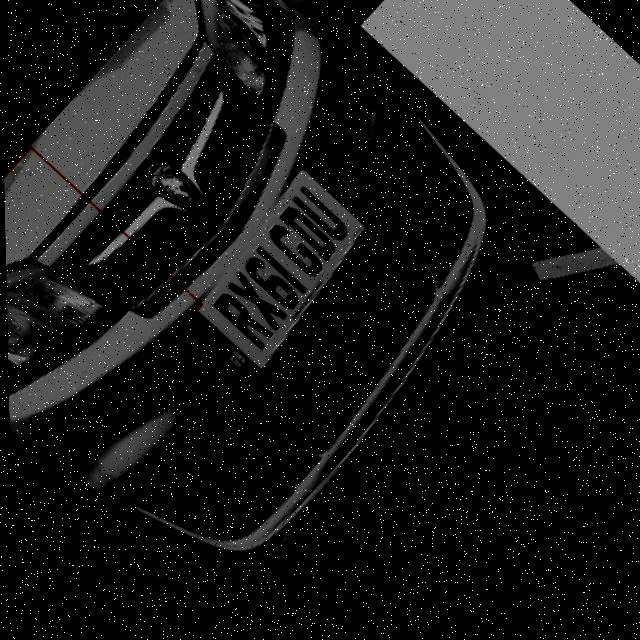license_plate: (165, 161, 368, 388)
